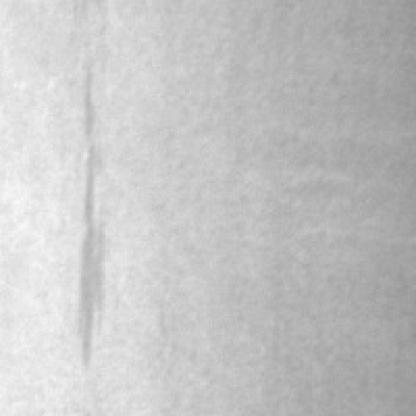inclusion: (63, 45, 118, 380)
